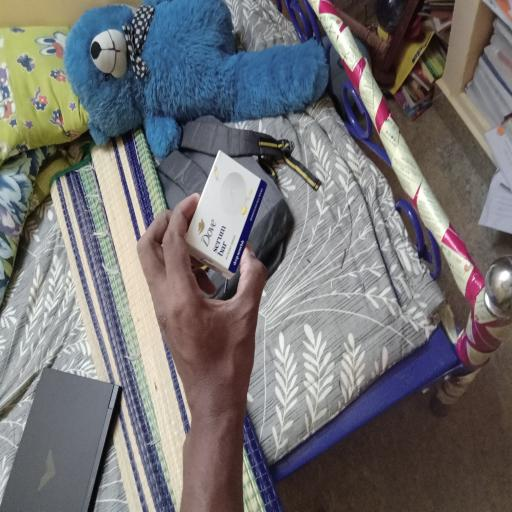Dove`1: (176, 149, 276, 287)
